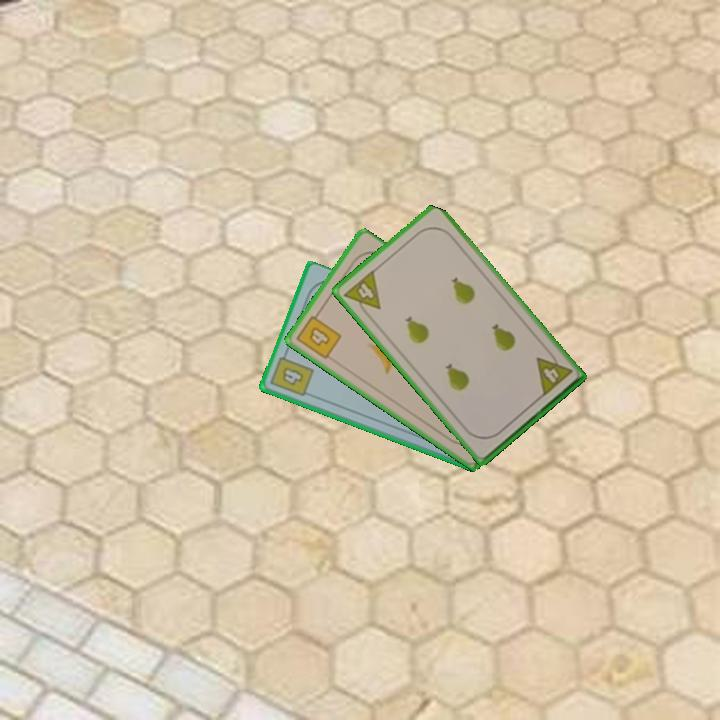4b: (293, 307, 344, 362), (267, 348, 317, 400)
4p: (340, 266, 384, 321), (532, 346, 575, 399)
